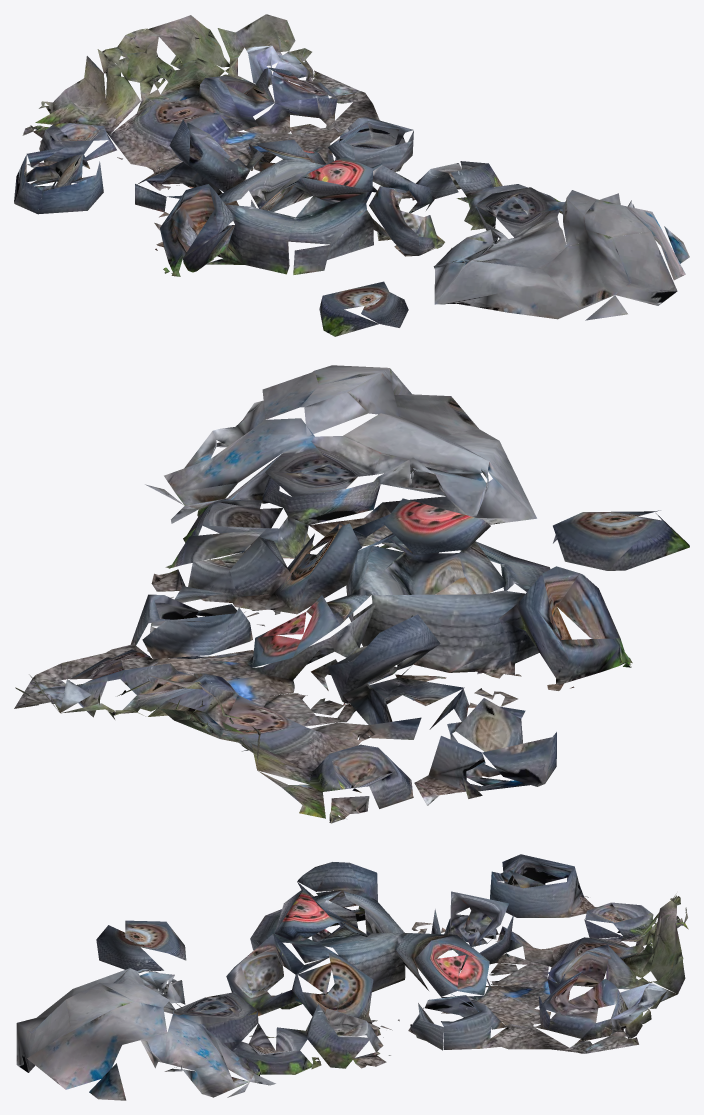
Rendered from tyre_heap.glb.
3 renders of one model, top to bottom at view 1: azimuth 30°, elevation 25°; view 2: azimuth 150°, elevation 25°; view 3: azimuth 270°, elevation 25°, orthographic. The views are drawn at different scales.
Visible parts, largest first — view 1: tyres SG lowpoly textured_tyres_SG_lowpoly_textured_0, tyres SG lowpoly textured_tyres_SG_lowpoly_textured1_0; view 2: tyres SG lowpoly textured_tyres_SG_lowpoly_textured1_0, tyres SG lowpoly textured_tyres_SG_lowpoly_textured_0; view 3: tyres SG lowpoly textured_tyres_SG_lowpoly_textured1_0, tyres SG lowpoly textured_tyres_SG_lowpoly_textured_0.
Boxes of the visible parts, x1,y1,x2,y2 form: tyres SG lowpoly textured_tyres_SG_lowpoly_textured_0: (14, 15, 685, 336); tyres SG lowpoly textured_tyres_SG_lowpoly_textured1_0: (27, 14, 689, 327); tyres SG lowpoly textured_tyres_SG_lowpoly_textured1_0: (26, 394, 660, 823); tyres SG lowpoly textured_tyres_SG_lowpoly_textured_0: (14, 365, 689, 819); tyres SG lowpoly textured_tyres_SG_lowpoly_textured1_0: (16, 862, 685, 1100); tyres SG lowpoly textured_tyres_SG_lowpoly_textured_0: (27, 854, 688, 1097).
Bounding box in the file's own units: 9.06 × 1.52 × 11.67.
2 materials, 2 textured.
